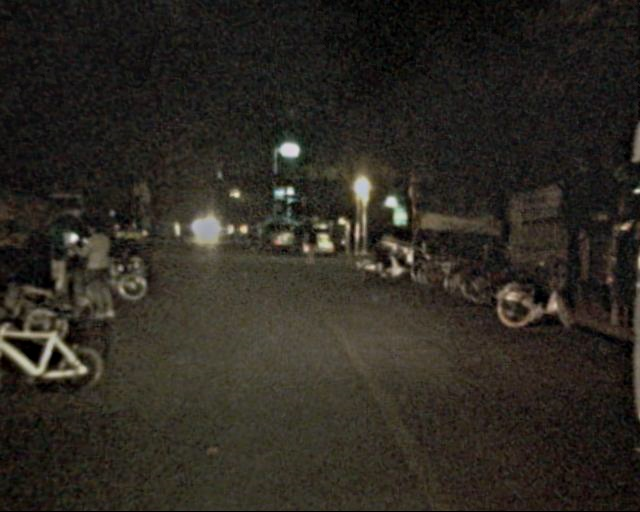person: (78, 218, 122, 323), (302, 220, 322, 268), (246, 225, 259, 257)
